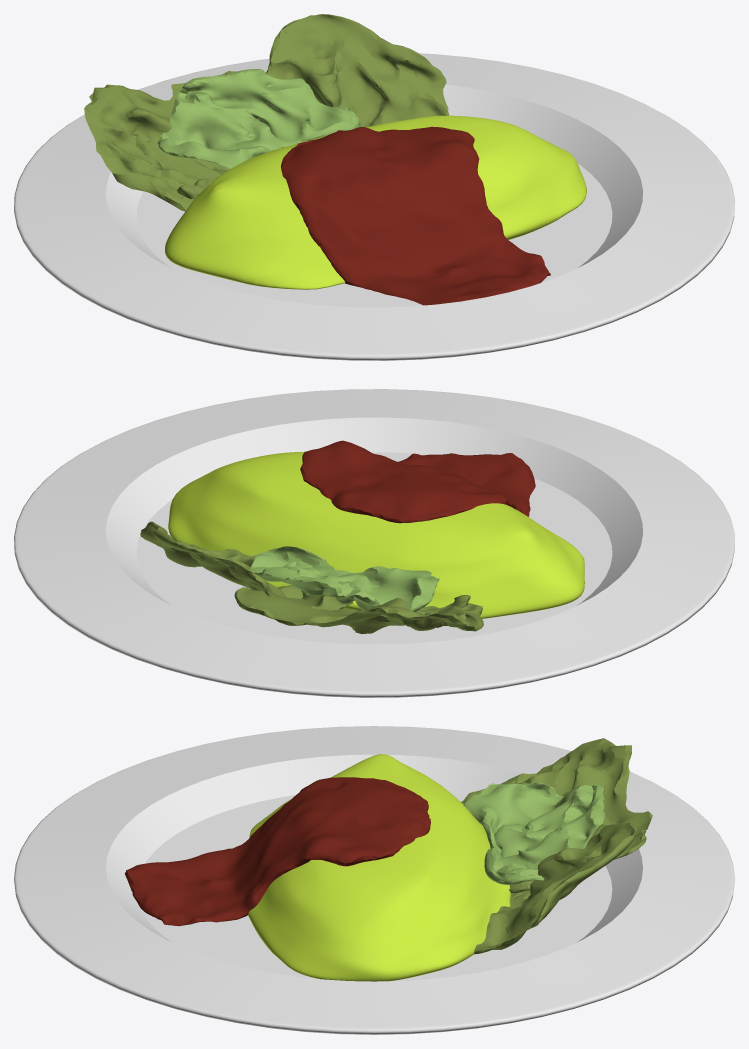
The model's file is OmletRice.fbx.
3 renders of one model, top to bottom at view 1: azimuth 30°, elevation 25°; view 2: azimuth 150°, elevation 25°; view 3: azimuth 270°, elevation 25°, orthographic.
Parts seen in each view (by area): view 1: 円柱, 立方体.001, 立方体, 立方体.002, 立方体.004, 立方体.003; view 2: 円柱, 立方体, 立方体.001, 立方体.004, 立方体.003, 立方体.002; view 3: 円柱, 立方体, 立方体.001, 立方体.004, 立方体.002, 立方体.003.
Part boxes in pixels (box(x1,y1,x2,y2)): 円柱: box(14, 53, 734, 360); 立方体.001: box(281, 126, 550, 305); 立方体: box(165, 115, 586, 289); 立方体.002: box(265, 14, 449, 127); 立方体.004: box(157, 69, 360, 168); 立方体.003: box(84, 71, 235, 211); 円柱: box(14, 389, 734, 697); 立方体: box(168, 451, 584, 618); 立方体.001: box(300, 440, 535, 523); 立方体.004: box(249, 546, 439, 616); 立方体.003: box(234, 585, 483, 633); 立方体.002: box(140, 521, 353, 611); 円柱: box(14, 726, 734, 1034); 立方体: box(248, 754, 511, 981); 立方体.001: box(124, 777, 430, 926); 立方体.004: box(463, 782, 604, 884); 立方体.002: box(474, 822, 636, 954); 立方体.003: box(461, 738, 652, 893).
Size of the model in its own units: 202 by 33.78 by 202.
